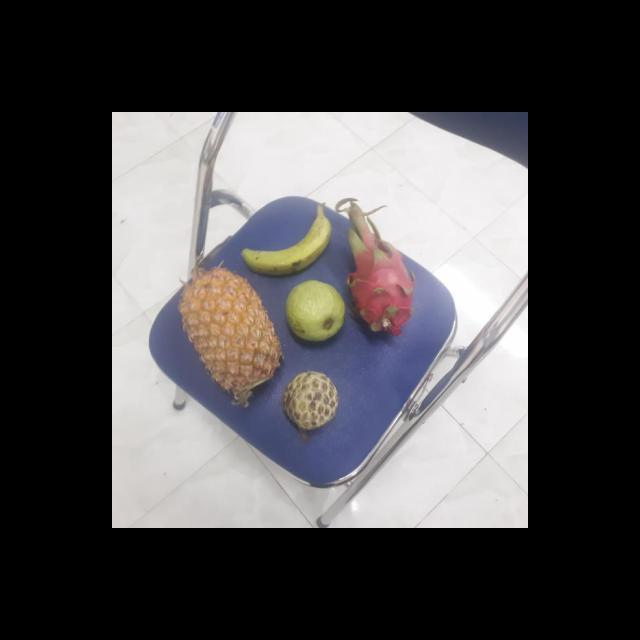Sakya fruit: (278, 372, 337, 432)
banana: (240, 202, 328, 276)
guava: (280, 278, 346, 344)
pineapple: (174, 268, 281, 398)
pitaya: (339, 226, 414, 333)
